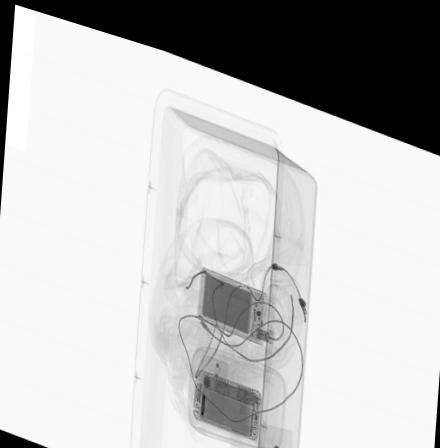Powerbank: (195, 255, 267, 331)
